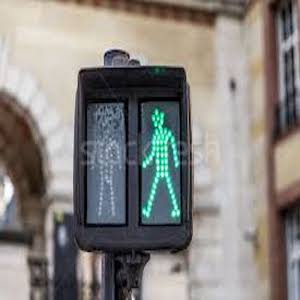green: (140, 111, 187, 225)
